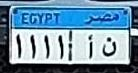1: (28, 34, 38, 61), (15, 33, 24, 59), (42, 33, 50, 59), (57, 35, 65, 59)
alif: (85, 34, 97, 60)
noon: (100, 35, 117, 59)
